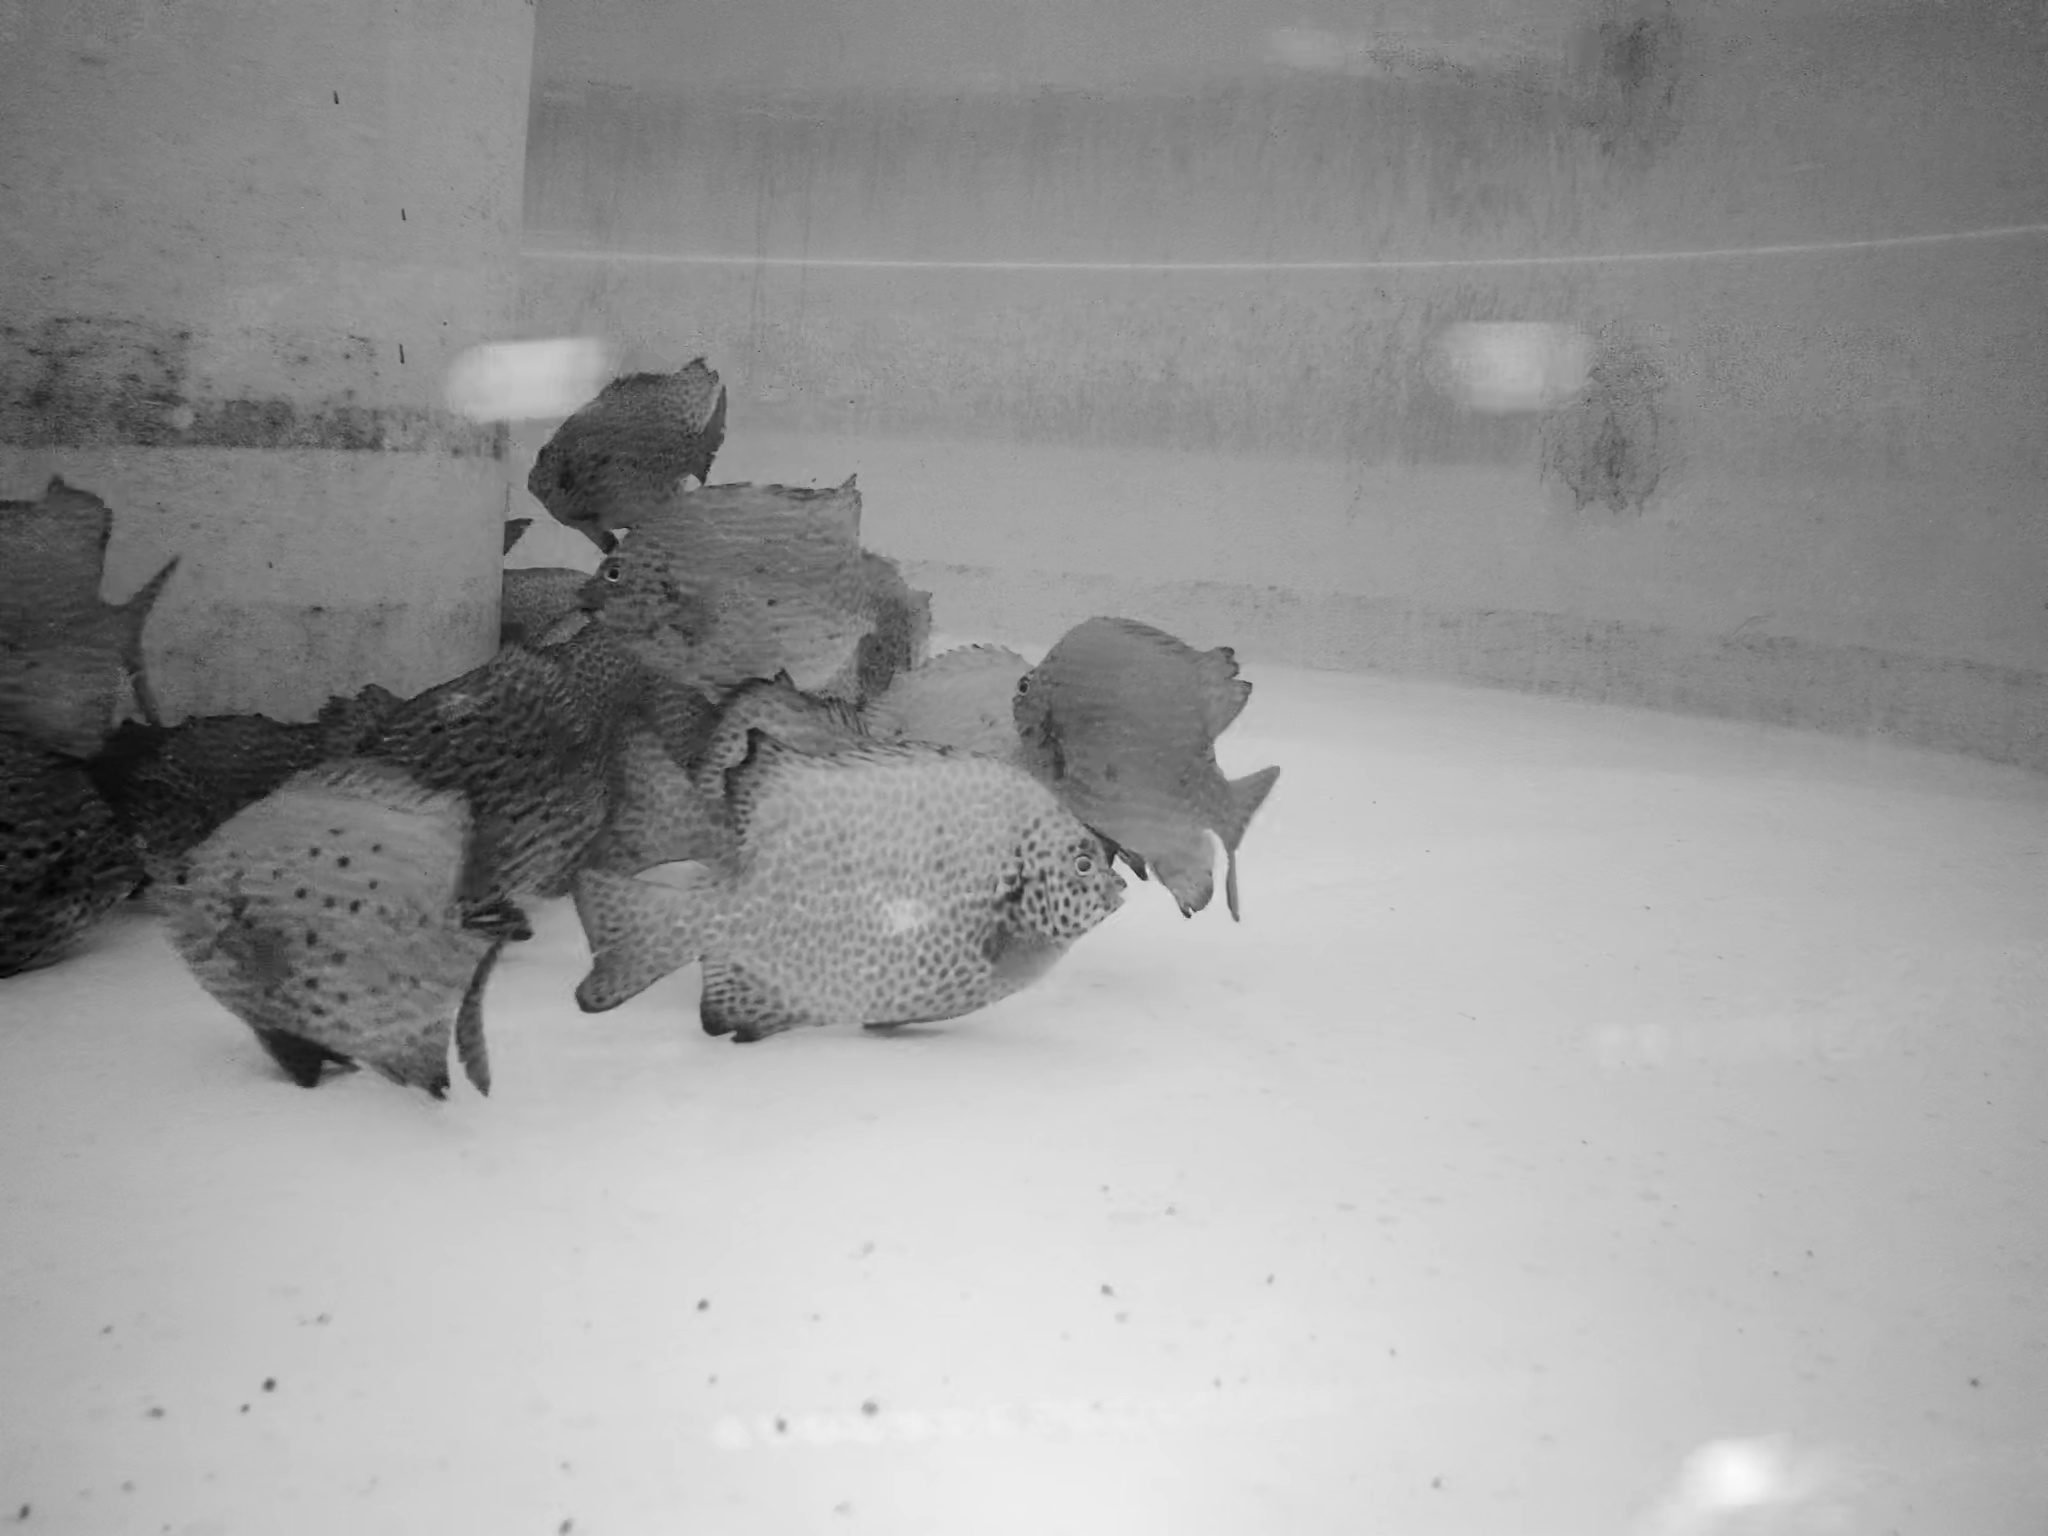fish: (558, 715, 1126, 1037), (160, 765, 497, 1107), (1008, 608, 1284, 920), (343, 662, 635, 904), (571, 481, 868, 700), (595, 687, 897, 881), (2, 479, 177, 758), (851, 642, 1108, 800), (529, 355, 731, 539), (493, 537, 610, 657)
